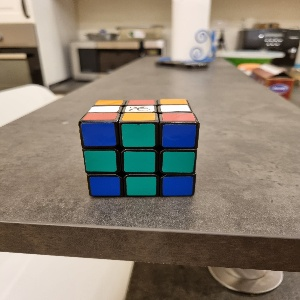cube: (79, 99, 201, 195)
